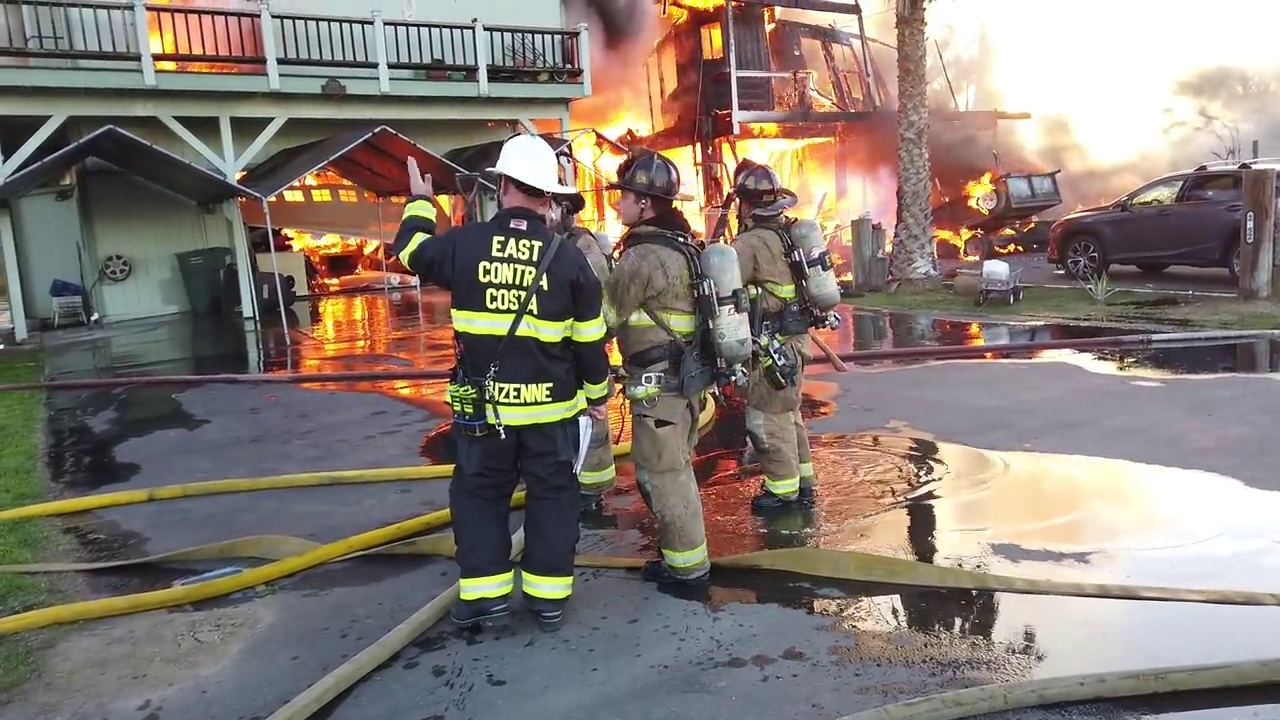fire: (270, 185, 390, 276), (564, 119, 624, 242), (934, 170, 998, 256), (662, 141, 708, 233), (689, 3, 728, 60), (144, 27, 188, 71), (1069, 197, 1090, 212)
smoke: (1024, 78, 1183, 168), (559, 1, 668, 130), (886, 75, 1022, 169), (774, 140, 897, 225), (1196, 64, 1280, 163), (866, 6, 904, 69), (855, 94, 888, 159)
